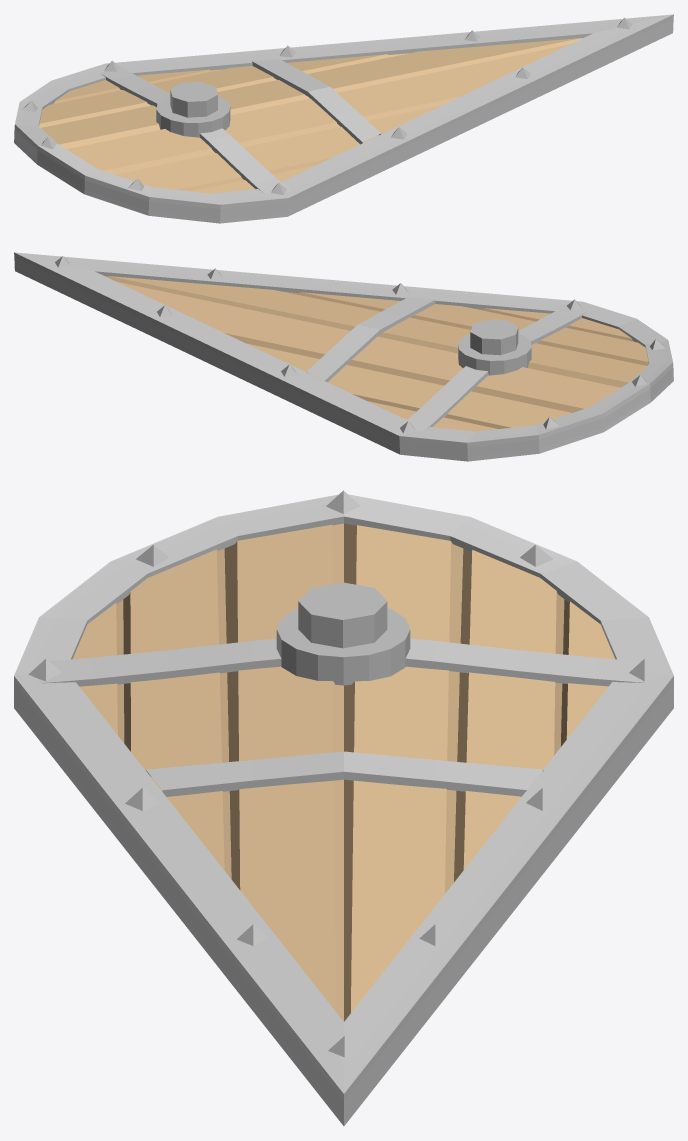
Rendered from Shield_3_c_wood.fbx.
The picture shows the model from 3 angles, top to bottom: view 1: azimuth 30°, elevation 25°; view 2: azimuth 150°, elevation 25°; view 3: azimuth 270°, elevation 25°; orthographic projection. The views are drawn at different scales.
Parts seen in each view (by area): view 1: Circle.006, Circle.010, Circle.008, Circle.051, Circle.009, Circle.007; view 2: Circle.006, Circle.010, Circle.008, Circle.051, Circle.009, Circle.007; view 3: Circle.006, Circle.010, Circle.008, Circle.051, Circle.009, Circle.007.
Boxes of the visible parts, x1,y1,x2,y2 form: Circle.006: (39, 38, 582, 193); Circle.010: (14, 14, 673, 223); Circle.008: (100, 66, 290, 193); Circle.051: (252, 59, 381, 144); Circle.009: (156, 96, 230, 137); Circle.007: (170, 81, 217, 117); Circle.006: (105, 276, 648, 431); Circle.010: (14, 252, 673, 461); Circle.008: (398, 304, 587, 431); Circle.051: (306, 297, 435, 382); Circle.009: (458, 333, 531, 375); Circle.007: (470, 319, 518, 355); Circle.006: (73, 523, 614, 1021); Circle.010: (14, 494, 673, 1125); Circle.008: (38, 638, 649, 686); Circle.051: (146, 751, 543, 796); Circle.009: (276, 608, 410, 685); Circle.007: (298, 582, 387, 648).
Size of the model in its own units: 148 by 19.83 by 74.
